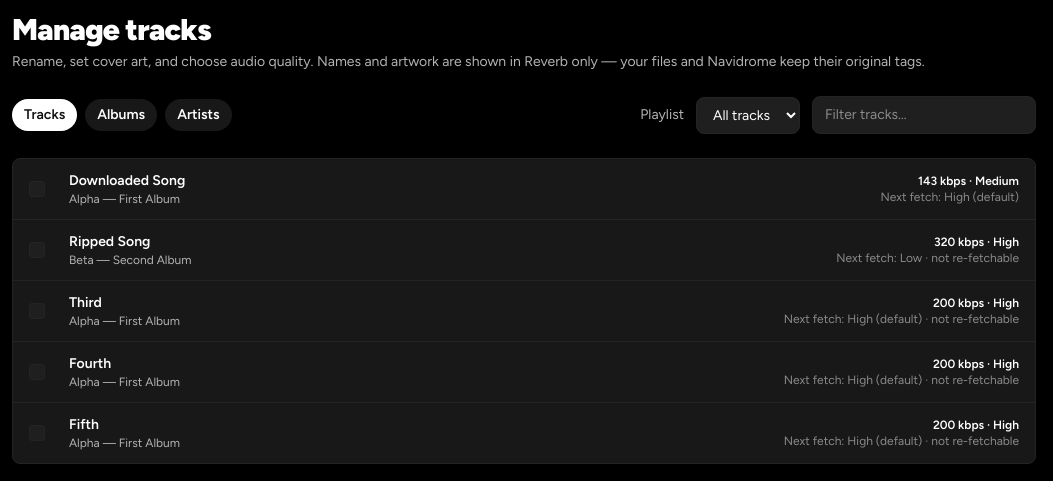
Test case: ManageTracks › playlist filter › goes back to the whole library when the filter is cleared
Select "Road trip" in the dropdown labelled "Playlist" at (748, 115), box [696,96,800,134]
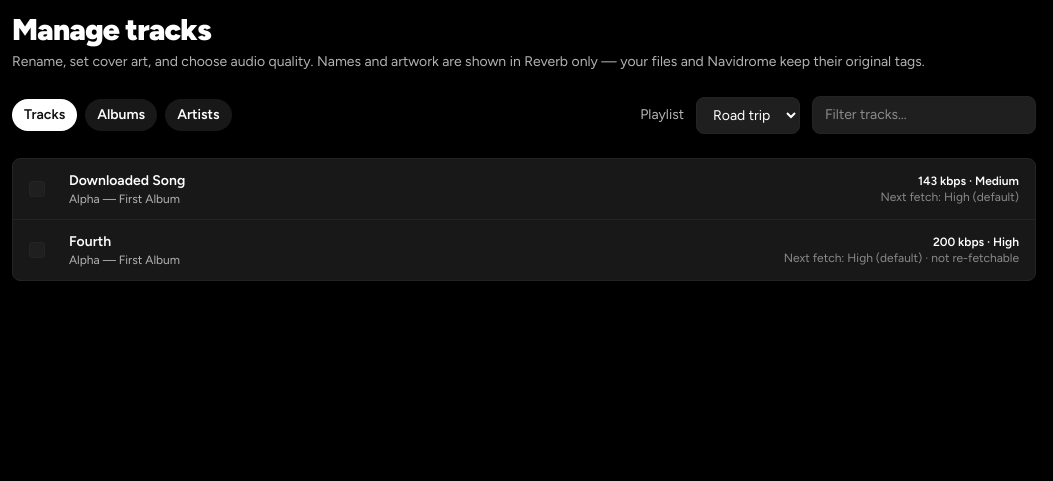
Now the text "Ripped Song" is gone
Select "All tracks" in the dropdown labelled "Playlist" at (748, 115), box [696,96,800,134]
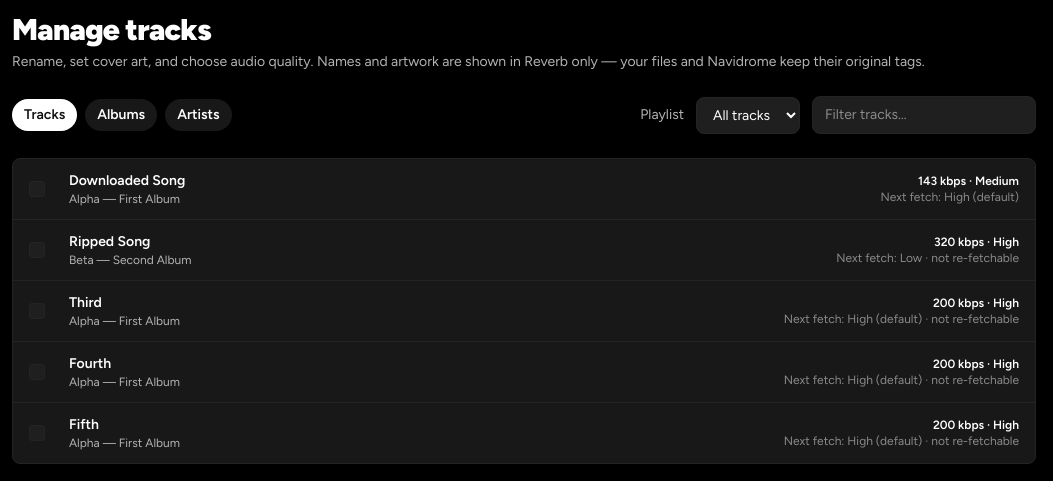
Now the text "Ripped Song" is shown, box [69,233,150,250]
